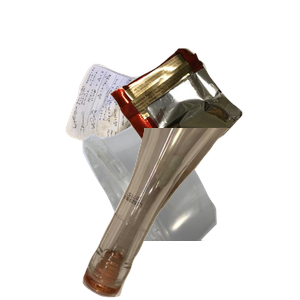glass: (80, 128, 300, 300)
paper: (63, 61, 242, 206)
plastic: (80, 120, 289, 300)
trash: (107, 46, 300, 198)
